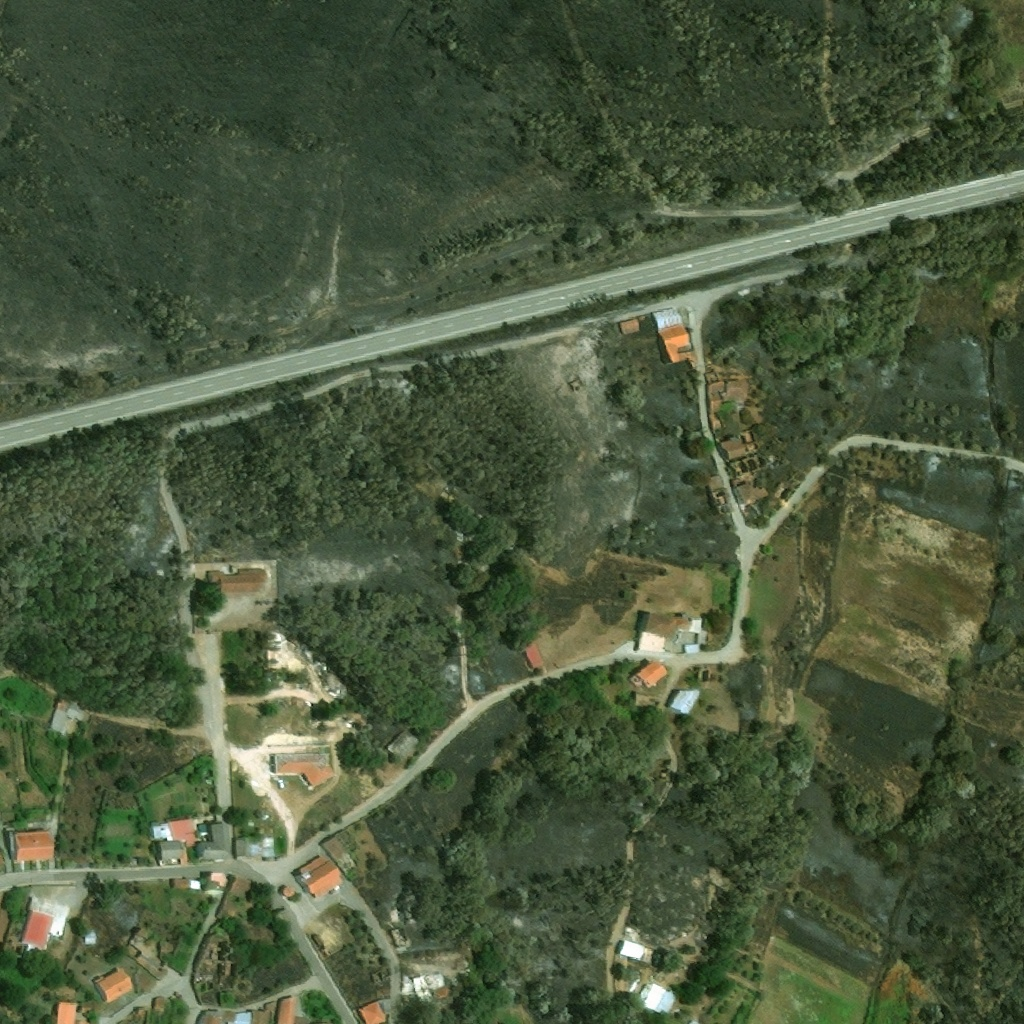0 no-damage: (704, 364, 753, 432), (650, 305, 696, 369), (637, 611, 708, 652), (21, 896, 70, 949), (293, 856, 340, 898), (208, 569, 265, 594), (9, 831, 53, 860), (196, 823, 231, 859), (218, 876, 250, 915), (95, 969, 132, 1000), (151, 818, 193, 845), (628, 660, 667, 687), (668, 690, 700, 714), (357, 999, 388, 1023), (158, 842, 188, 865), (235, 837, 269, 857), (719, 437, 747, 459), (129, 928, 154, 952), (522, 641, 544, 668), (225, 1010, 270, 1023), (278, 996, 295, 1023), (66, 701, 86, 722), (57, 1001, 76, 1023), (50, 710, 66, 731), (199, 1011, 223, 1023), (171, 879, 199, 889), (619, 942, 637, 957), (642, 946, 654, 964), (152, 997, 165, 1013), (85, 930, 95, 944), (282, 887, 295, 897)
1 minor-damage: (274, 752, 336, 786), (634, 983, 676, 1016), (731, 477, 770, 506), (385, 728, 418, 760)
2 major-damage: (321, 829, 360, 879), (705, 474, 733, 514), (402, 975, 435, 1003), (389, 927, 409, 947)
3 destroyed: (159, 938, 194, 968), (732, 454, 763, 476)
